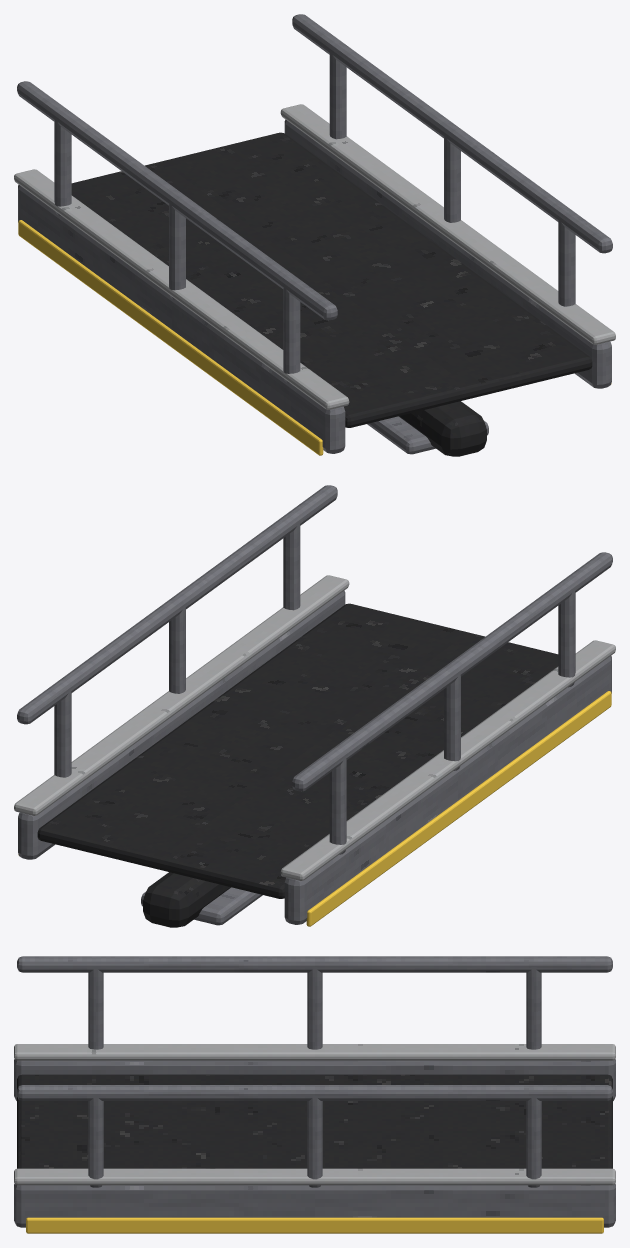
Rendered from decor_cargo_belt_span.glb.
3 renders of one model, top to bottom at view 1: azimuth 30°, elevation 25°; view 2: azimuth 150°, elevation 25°; view 3: azimuth 270°, elevation 25°, orthographic. The views are drawn at different scales.
Visible parts, largest first — view 1: DEC_CargoBeltSpan__Bed, DEC_CargoBeltSpan__Rail_L, DEC_CargoBeltSpan__Rail_Cap_R, DEC_CargoBeltSpan__Rail_Cap_L, DEC_CargoBeltSpan__Guard_Rail_L, DEC_CargoBeltSpan__Guard_Rail_R, DEC_CargoBeltSpan__Rail_R, DEC_CargoBeltSpan__Hazard_L, DEC_CargoBeltSpan__Truss, DEC_CargoBeltSpan__Guard_Post_L_3, DEC_CargoBeltSpan__Guard_Post_L_1, DEC_CargoBeltSpan__Guard_Post_R_1 (+4 smaller); view 2: DEC_CargoBeltSpan__Bed, DEC_CargoBeltSpan__Rail_L, DEC_CargoBeltSpan__Rail_Cap_R, DEC_CargoBeltSpan__Rail_Cap_L, DEC_CargoBeltSpan__Guard_Rail_R, DEC_CargoBeltSpan__Guard_Rail_L, DEC_CargoBeltSpan__Rail_R, DEC_CargoBeltSpan__Hazard_L, DEC_CargoBeltSpan__Truss, DEC_CargoBeltSpan__Guard_Post_L_1, DEC_CargoBeltSpan__Guard_Post_L_3, DEC_CargoBeltSpan__Guard_Post_R_3 (+4 smaller); view 3: DEC_CargoBeltSpan__Bed, DEC_CargoBeltSpan__Rail_R, DEC_CargoBeltSpan__Rail_Cap_R, DEC_CargoBeltSpan__Rail_Cap_L, DEC_CargoBeltSpan__Guard_Rail_L, DEC_CargoBeltSpan__Hazard_R, DEC_CargoBeltSpan__Guard_Rail_R, DEC_CargoBeltSpan__Rail_L, DEC_CargoBeltSpan__Guard_Post_R_1, DEC_CargoBeltSpan__Guard_Post_R_3, DEC_CargoBeltSpan__Guard_Post_R_2, DEC_CargoBeltSpan__Guard_Post_L_1 (+2 smaller).
Part boxes in pixels (x1,y1,x2,y2): DEC_CargoBeltSpan__Bed: (71, 132, 592, 427); DEC_CargoBeltSpan__Rail_L: (18, 184, 345, 453); DEC_CargoBeltSpan__Rail_Cap_R: (280, 104, 615, 344); DEC_CargoBeltSpan__Rail_Cap_L: (14, 169, 349, 409); DEC_CargoBeltSpan__Guard_Rail_L: (17, 81, 337, 320); DEC_CargoBeltSpan__Guard_Rail_R: (292, 14, 612, 253); DEC_CargoBeltSpan__Rail_R: (284, 119, 611, 388); DEC_CargoBeltSpan__Hazard_L: (18, 220, 323, 455); DEC_CargoBeltSpan__Truss: (399, 401, 486, 456); DEC_CargoBeltSpan__Guard_Post_L_3: (54, 117, 71, 216); DEC_CargoBeltSpan__Guard_Post_L_1: (283, 285, 300, 383); DEC_CargoBeltSpan__Guard_Post_R_1: (558, 218, 575, 306); DEC_CargoBeltSpan__Bed: (37, 603, 558, 898); DEC_CargoBeltSpan__Rail_L: (284, 655, 611, 924); DEC_CargoBeltSpan__Rail_Cap_R: (14, 575, 349, 815); DEC_CargoBeltSpan__Rail_Cap_L: (280, 640, 615, 880); DEC_CargoBeltSpan__Guard_Rail_R: (17, 485, 337, 724); DEC_CargoBeltSpan__Guard_Rail_L: (292, 552, 612, 791); DEC_CargoBeltSpan__Rail_R: (18, 590, 345, 859); DEC_CargoBeltSpan__Hazard_L: (306, 691, 611, 926); DEC_CargoBeltSpan__Truss: (143, 872, 230, 927); DEC_CargoBeltSpan__Guard_Post_L_1: (558, 588, 575, 687); DEC_CargoBeltSpan__Guard_Post_L_3: (329, 756, 346, 854); DEC_CargoBeltSpan__Guard_Post_R_3: (54, 689, 71, 777); DEC_CargoBeltSpan__Bed: (17, 1074, 612, 1168); DEC_CargoBeltSpan__Rail_R: (14, 1184, 615, 1227); DEC_CargoBeltSpan__Rail_Cap_R: (14, 1168, 615, 1185); DEC_CargoBeltSpan__Rail_Cap_L: (14, 1044, 615, 1060); DEC_CargoBeltSpan__Guard_Rail_L: (17, 956, 612, 972); DEC_CargoBeltSpan__Hazard_R: (26, 1217, 603, 1233); DEC_CargoBeltSpan__Guard_Rail_R: (17, 1085, 612, 1100); DEC_CargoBeltSpan__Rail_L: (14, 1059, 615, 1100); DEC_CargoBeltSpan__Guard_Post_R_1: (88, 1095, 103, 1187); DEC_CargoBeltSpan__Guard_Post_R_3: (526, 1095, 541, 1187); DEC_CargoBeltSpan__Guard_Post_R_2: (307, 1095, 322, 1187); DEC_CargoBeltSpan__Guard_Post_L_1: (88, 967, 103, 1049).
Bounding box in the file's own units: 1.06 × 0.655 × 1.98.
Materials: 4 (3 with a texture image).
